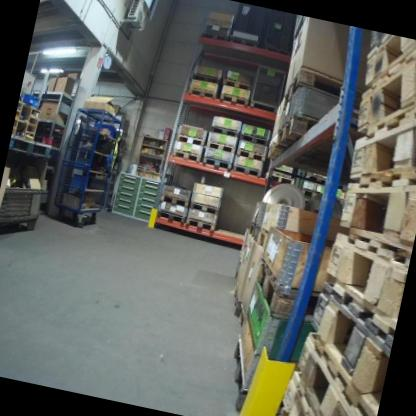pallet: (305, 296, 395, 416), (319, 237, 410, 329), (293, 335, 384, 416), (349, 92, 416, 188), (332, 177, 416, 250), (359, 38, 416, 134), (281, 59, 344, 121), (247, 259, 302, 320), (220, 341, 256, 411), (275, 111, 318, 157), (200, 154, 233, 171), (217, 91, 249, 107), (238, 131, 270, 147), (174, 132, 206, 148), (170, 147, 202, 163), (188, 200, 220, 216), (208, 123, 240, 138), (235, 148, 267, 163), (264, 171, 296, 186), (184, 217, 216, 232), (221, 77, 252, 92), (205, 140, 235, 155), (231, 163, 261, 177), (159, 194, 189, 208), (191, 71, 220, 85), (262, 44, 292, 57), (187, 87, 217, 100), (156, 210, 186, 223), (228, 36, 259, 48), (202, 30, 229, 42), (305, 173, 327, 185), (298, 190, 320, 199)
small_load_carrier: (23, 91, 40, 104)
stillage: (0, 180, 49, 246), (247, 64, 286, 112)
